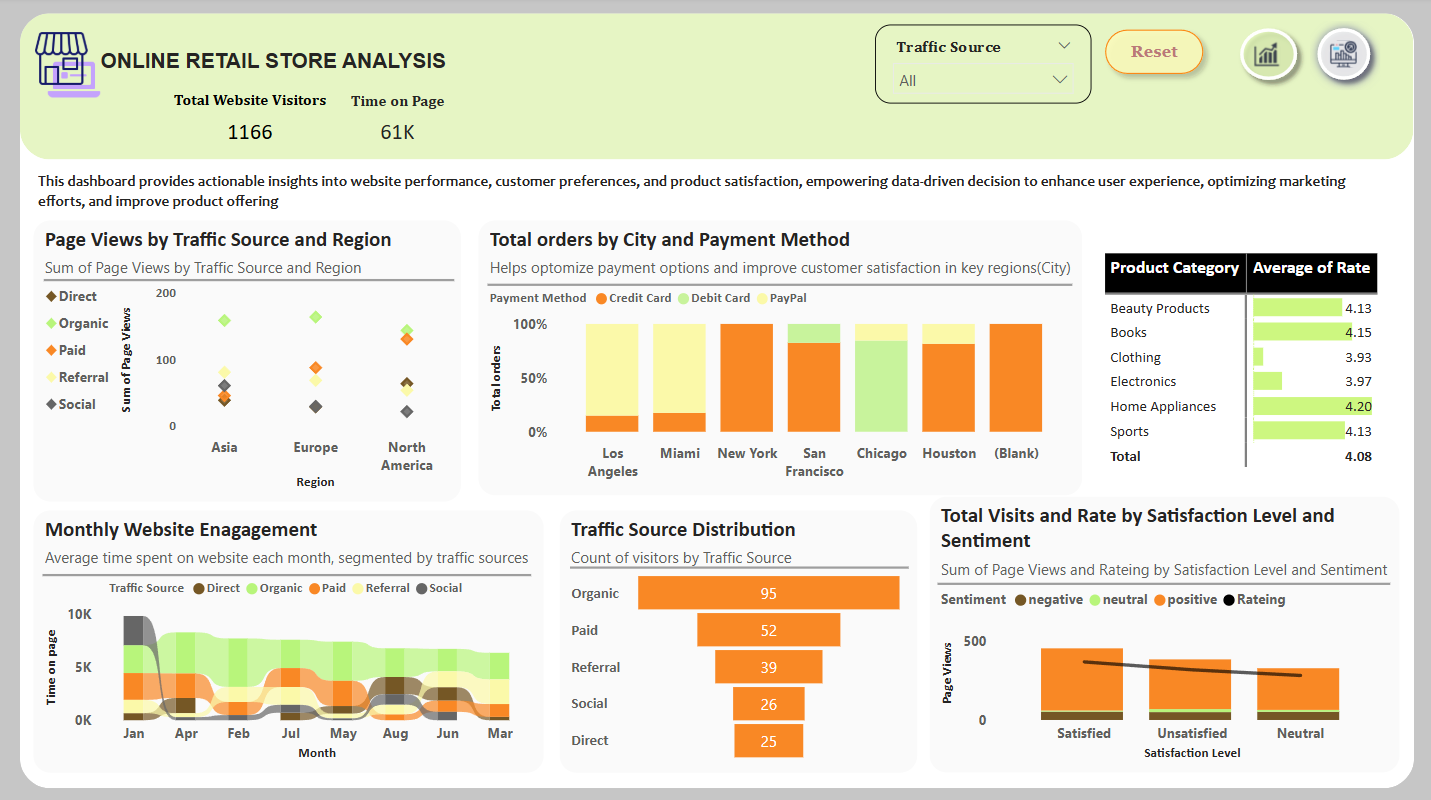

This screenshot's page, from the dashboard's own definition file:
{"tool":"powerbi","page":{"name":"Page 2","canvas":[1280,720],"ordinal":1},"visuals":[{"type":"shape","box":[21.7,14.5,1241.4,690.1],"z":0},{"type":"shape","box":[22.3,14.5,1241.2,130.2],"z":1000},{"type":"textbox","box":[26.5,41,515.2,37.4],"z":2000},{"type":"funnel","title":"Traffic Source Distribution ","fields":{"Category":["website traffic data.Traffic Source"],"Y":["CountNonNull(website traffic data.Traffic Source)"]},"box":[501.9,456,319.7,235.3],"z":3000},{"type":"scatterChart","title":"Page Views by Traffic Source and Region","fields":{"X":["Sales Transaction data.Region"],"Series":["website traffic data.Traffic Source"],"Y":["Sum(website traffic data.Page Views)"]},"box":[33.8,197.9,382.4,252.1],"z":4000},{"type":"pivotTable","fields":{"Rows":["Sales Transaction data.Product Category"],"Values":["Avg(Feedback and Review.Rate)"]},"box":[977.2,217.2,273.9,218.4],"z":5000},{"type":"ribbonChart","title":"Monthly Website Enagagement","fields":{"Category":["Sales Transaction data.month name"],"Y":["Sum(website traffic data.Time on page in Min)"],"Series":["website traffic data.Traffic Source"]},"box":[33.8,456,456,235.3],"z":6000},{"type":"lineStackedColumnComboChart","title":"Total Visits and Rate by Satisfaction Level and Sentiment","fields":{"Category":["Feedback and Review.Satisfaction Level"],"Series":["Feedback and Review.Sentiment"],"Y2":["Sum(Feedback and Review.Rate)"],"Y":["Sum(website traffic data.Page Views)"]},"box":[831.2,444,419.8,247.3],"z":7000},{"type":"hundredPercentStackedColumnChart","title":"Total orders by City and Payment Method","fields":{"Y":["Sales Transaction data.Total orders"],"Series":["Sales Transaction data.Payment Method"],"Category":["Customer Demographic data.City"]},"box":[429.5,197.9,539.3,246.1],"z":8000},{"type":"actionButton","box":[1169,19.3,65.1,63.9],"z":9000},{"type":"actionButton","box":[1100.3,19.3,68.8,63.9],"z":10000},{"type":"image","box":[26.5,25.3,76,70],"z":12000},{"type":"card","title":"Total Website Visitors","fields":{"Values":["website traffic data.Total website visitors"]},"box":[138.7,83.2,176.1,57.9],"z":13000},{"type":"card","title":"Time on Page","fields":{"Values":["Sum(website traffic data.Time on page in Min)"]},"box":[284.7,84.5,147.2,56.7],"z":14000},{"type":"shape","box":[43.4,244.9,365.6,14.5],"z":15000},{"type":"shape","box":[839.7,515.2,403,14.5],"z":16000},{"type":"shape","box":[511.5,500.7,301.6,14.5],"z":17000},{"type":"shape","box":[42.2,507.9,435.5,14.5],"z":18000},{"type":"shape","box":[439.1,252.1,521.2,7.2],"z":19000},{"type":"slicer","title":"Traffic Source","fields":{"Values":["website traffic data.Traffic Source"]},"box":[783.8,24,193,70.7],"z":20000},{"type":"textbox","box":[33.8,149.6,1217.3,48.3],"z":21000},{"type":"actionButton","box":[979.2,20.4,105.5,57.5],"z":22000}]}

Visuals, with their boxes in screenshot pixels (x1, y1, x2, y2), scaled from the page's 1280x720 canvas onto the 1431x800 screenshot:
shape: 24:16:1412:783
shape: 25:16:1413:161
textbox: 30:46:606:87
"Traffic Source Distribution " funnel: 561:507:919:768
"Page Views by Traffic Source and Region" scatterChart: 38:220:465:500
pivotTable - Sales Transaction data.Product Category x Avg(Feedback and Review.Rate): 1092:241:1399:484
"Monthly Website Enagagement" ribbonChart: 38:507:548:768
"Total Visits and Rate by Satisfaction Level and Sentiment" lineStackedColumnComboChart: 929:493:1399:768
"Total orders by City and Payment Method" hundredPercentStackedColumnChart: 480:220:1083:493
actionButton: 1307:21:1380:92
actionButton: 1230:21:1307:92
image: 30:28:115:106
"Total Website Visitors" card: 155:92:352:157
"Time on Page" card: 318:94:483:157
shape: 49:272:457:288
shape: 939:572:1389:589
shape: 572:556:909:572
shape: 47:564:534:580
shape: 491:280:1074:288
"Traffic Source" slicer: 876:27:1092:105
textbox: 38:166:1399:220
actionButton: 1095:23:1213:87
